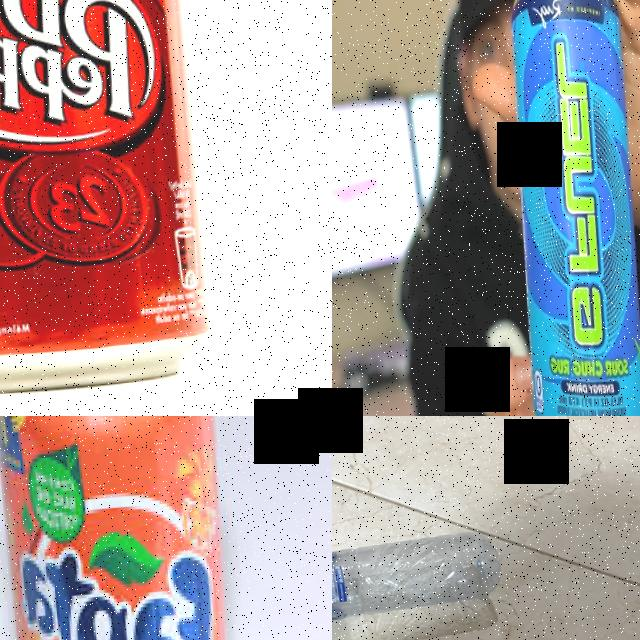bottle: (332, 526, 509, 640)
can: (0, 0, 222, 412), (492, 0, 640, 416), (0, 416, 254, 640)
